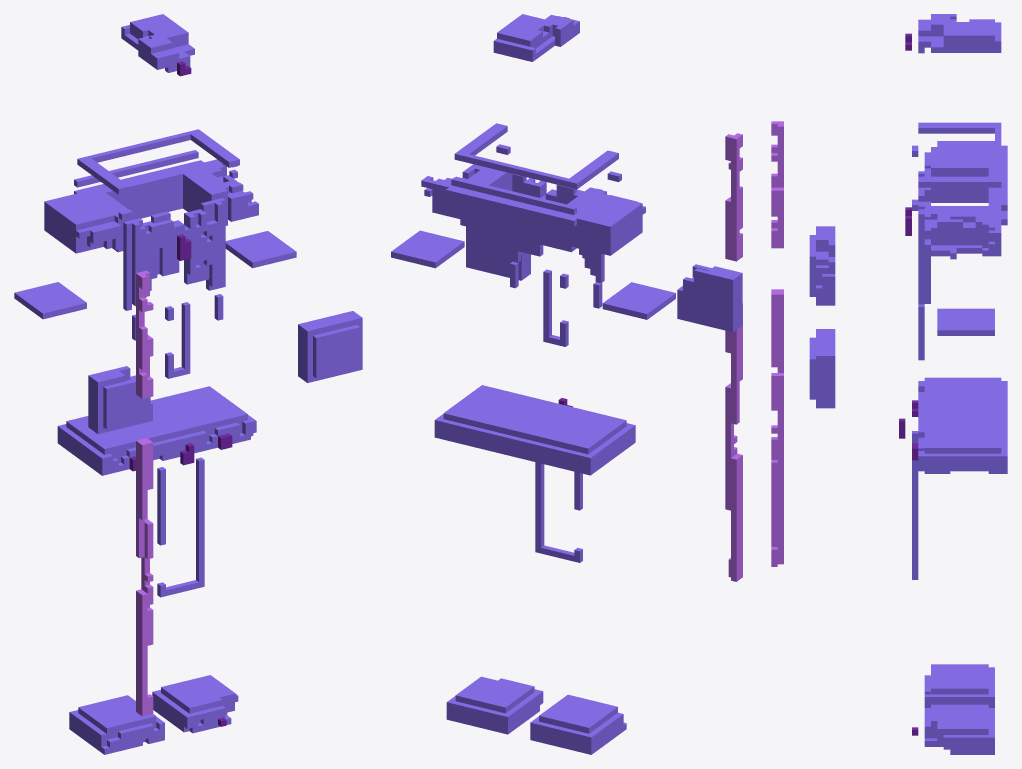
File: Anubis_25-8.obj
3 renders of one model, left to right at view 1: azimuth 30°, elevation 25°; view 2: azimuth 150°, elevation 25°; view 3: azimuth 270°, elevation 25°, orthographic.
Bounding box in the file's own units: 4.8 × 12 × 3.7.
1 material, 1 textured.
